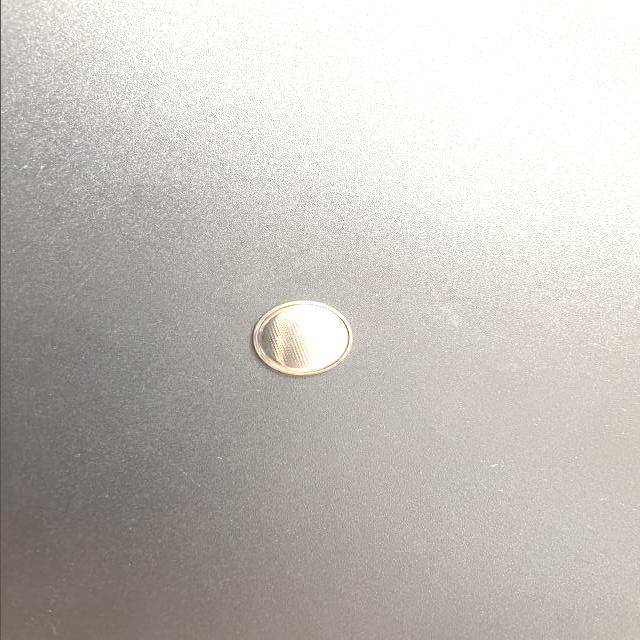COIN: (249, 299, 356, 378)
